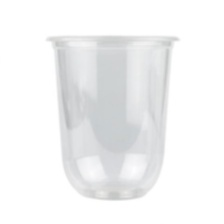glass: (37, 27, 190, 204)
